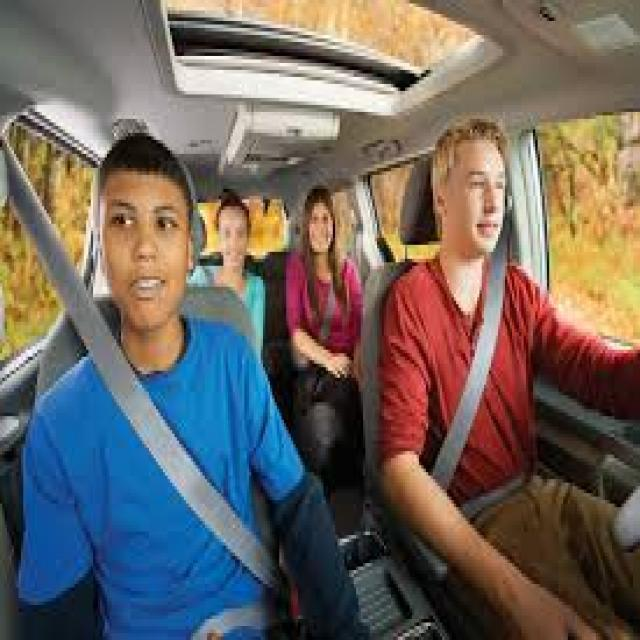seatbelt: (9, 133, 282, 633), (433, 210, 524, 510), (296, 210, 368, 402), (202, 256, 224, 286)
